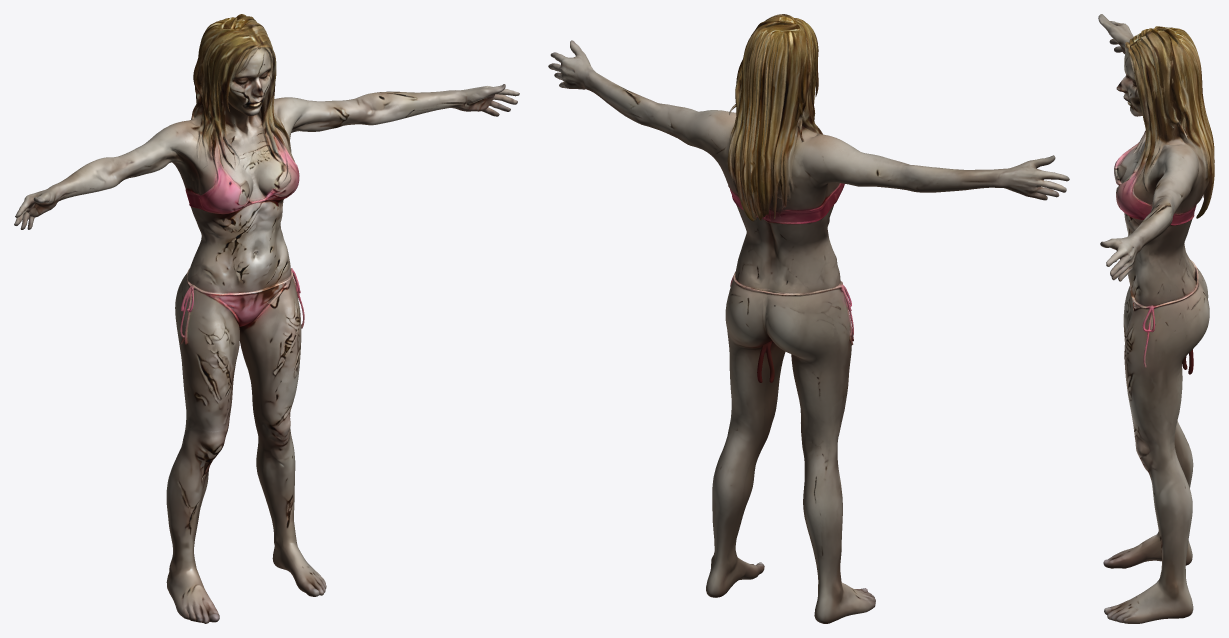
The model's file is lod_basic_pbr.fbx.
3 views of the same model, side by side, from view 1: azimuth 30°, elevation 25°; view 2: azimuth 150°, elevation 25°; view 3: azimuth 270°, elevation 25° (orthographic). The views are drawn at different scales.
Visible parts, largest first — view 1: model_LOD0; view 2: model_LOD0; view 3: model_LOD0.
Part boxes in pixels (bbox=[...]): model_LOD0: bbox=[14, 14, 519, 623]; model_LOD0: bbox=[548, 14, 1069, 623]; model_LOD0: bbox=[1098, 14, 1214, 623].
Size of what is drawn, in the model's own units: 165 by 178 by 33.39.
Materials: 1 (1 with a texture image).
